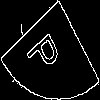P: (25, 24, 67, 79)
